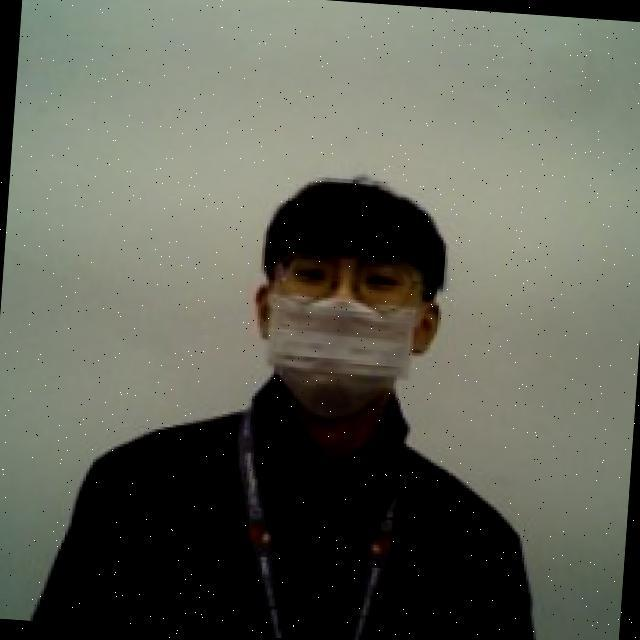mask: (243, 274, 442, 434)
no_gloves: (255, 160, 458, 307)
